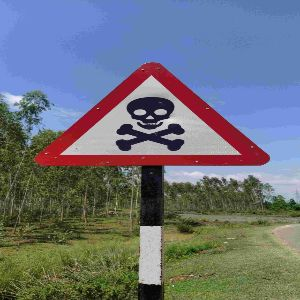Accident prone area: (29, 53, 277, 177)
